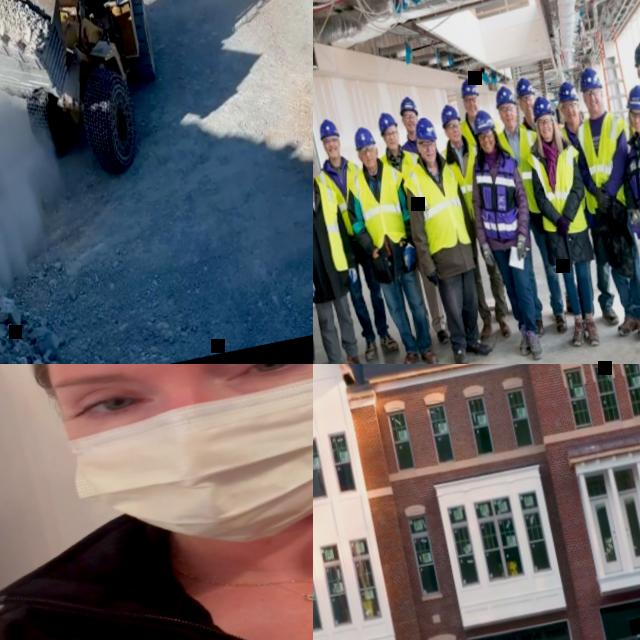Hardhat: (528, 92, 562, 149), (411, 116, 437, 146), (576, 67, 603, 93), (552, 80, 579, 106), (470, 108, 496, 135), (528, 94, 555, 119), (621, 82, 640, 117), (352, 124, 377, 150), (492, 85, 517, 110), (438, 103, 462, 129), (317, 116, 340, 141), (457, 76, 480, 101), (376, 110, 398, 136), (397, 94, 419, 120), (513, 77, 536, 100), (629, 40, 640, 68)
Mask: (52, 364, 313, 560)
NO-Mask: (419, 149, 437, 166), (585, 101, 604, 117), (359, 156, 379, 171), (481, 139, 498, 155), (502, 116, 519, 131), (448, 129, 463, 145), (465, 104, 481, 119), (540, 128, 555, 143), (565, 113, 580, 127), (325, 146, 341, 159), (404, 121, 418, 135), (385, 138, 400, 151), (523, 107, 535, 118), (632, 120, 640, 132), (313, 175, 317, 191)
NO-Safety Vest: (0, 484, 313, 640)
Person: (0, 364, 313, 640), (389, 109, 501, 364), (450, 102, 557, 364), (330, 117, 441, 364), (516, 89, 615, 352), (486, 81, 577, 338), (535, 80, 627, 332), (559, 63, 640, 347), (313, 112, 400, 364), (368, 104, 455, 348), (430, 100, 514, 343), (510, 72, 591, 318), (313, 139, 370, 364), (601, 80, 640, 359), (613, 36, 640, 338), (313, 123, 336, 364), (449, 73, 502, 154), (391, 93, 427, 159)
Safety Vest: (569, 107, 640, 215), (525, 133, 593, 239), (399, 154, 470, 254), (468, 145, 532, 247), (347, 160, 414, 251), (496, 122, 552, 219), (314, 158, 371, 241), (437, 142, 490, 224), (556, 115, 601, 211), (619, 130, 640, 246), (621, 82, 640, 196), (460, 115, 503, 158), (382, 146, 422, 182), (517, 119, 539, 148), (401, 140, 419, 158)
vehicle: (0, 0, 183, 204)
